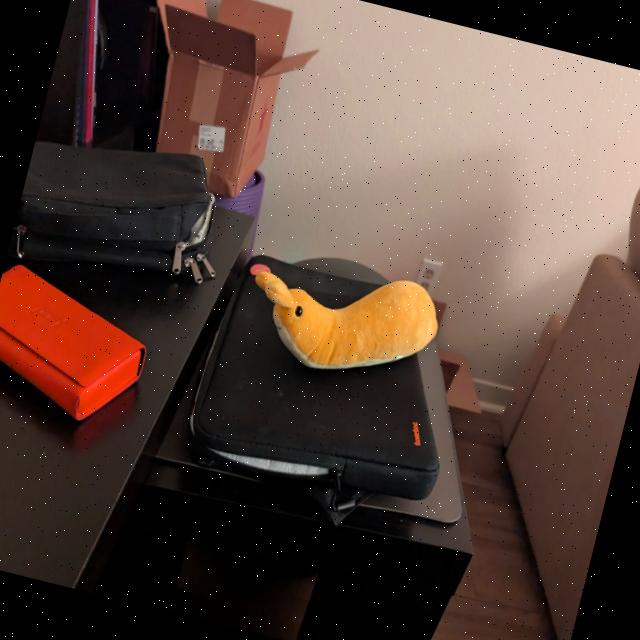banana-slug-toy: (222, 233, 456, 405)
